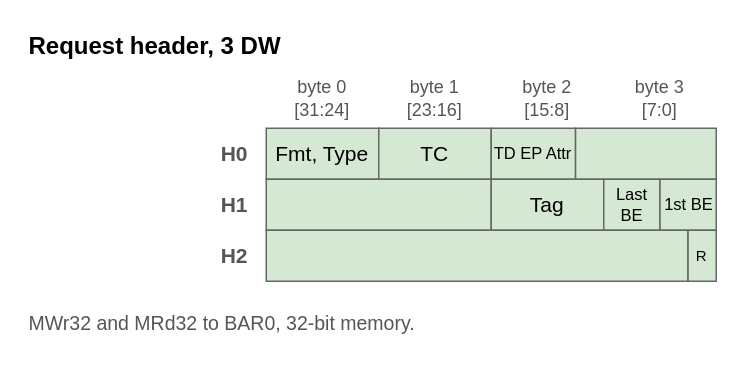
Image size: 756x381. Some labels were removed from this diagram. Here are the shapes that lost their labels. From the top down, the centre of each, then its label:
At (645,153): "Length".
At (378,204): "Requester ID".
At (476,255): "Address[31:2]".
